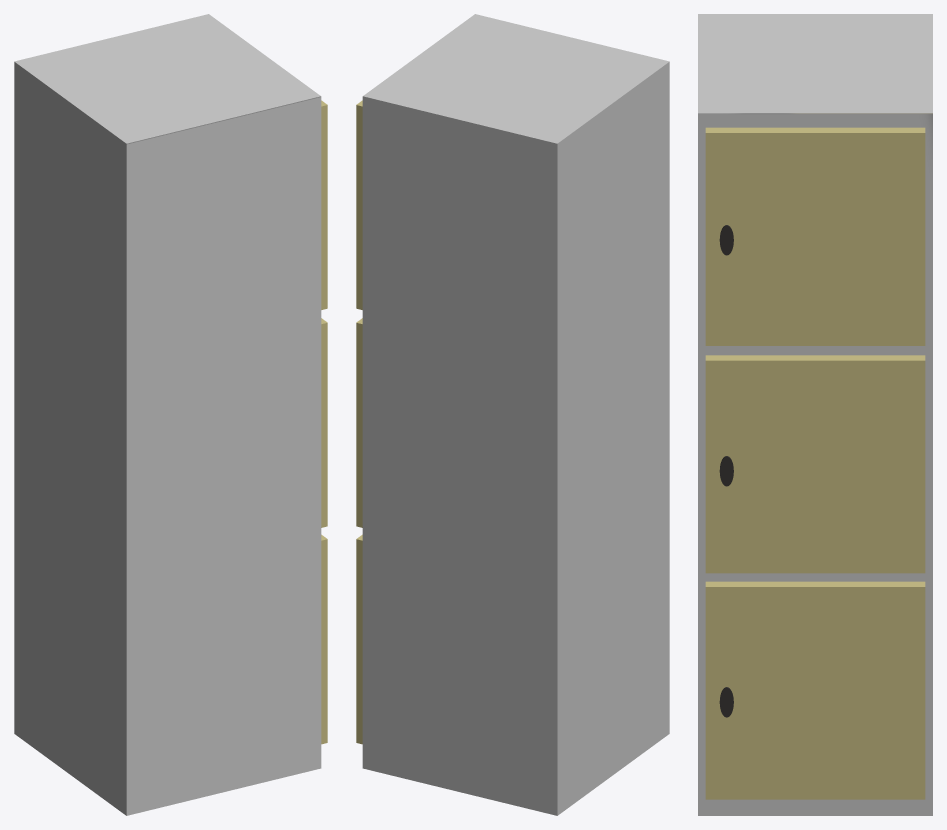
Rendered from SimpleLocker.fbx.
3 views of the same model, side by side, from view 1: azimuth 30°, elevation 25°; view 2: azimuth 150°, elevation 25°; view 3: azimuth 270°, elevation 25° (orthographic). The views are drawn at different scales.
Parts seen in each view (by area): view 1: Cube; view 2: Cube; view 3: Cube.
Boxes of the visible parts, left/top/right/bottom form: Cube: left=14, top=14, right=327, bottom=815; Cube: left=356, top=14, right=669, bottom=815; Cube: left=698, top=14, right=932, bottom=815.
Bounding box in the file's own units: 2.12 × 6.6 × 2.
